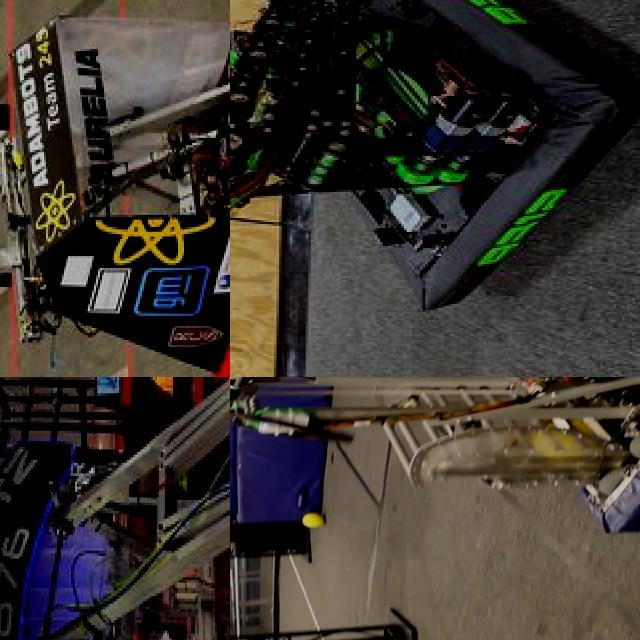FRC-Robots: (230, 0, 640, 336), (0, 0, 230, 377), (230, 377, 640, 581), (26, 377, 230, 640)
